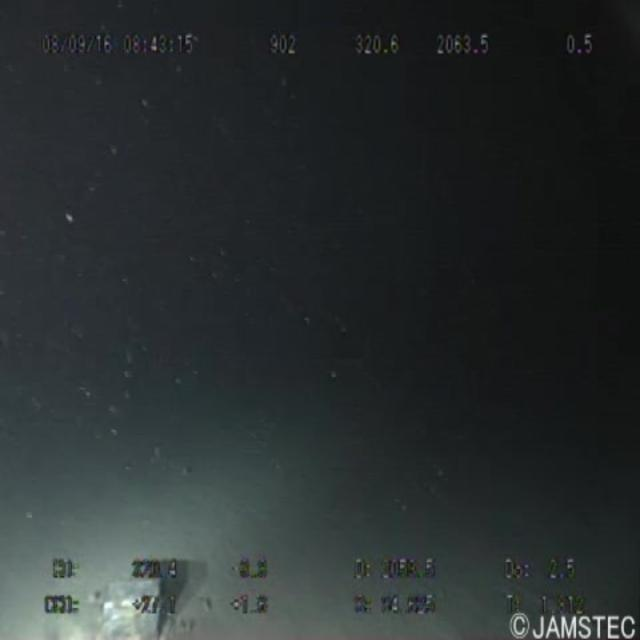Glass: (84, 538, 175, 640)
